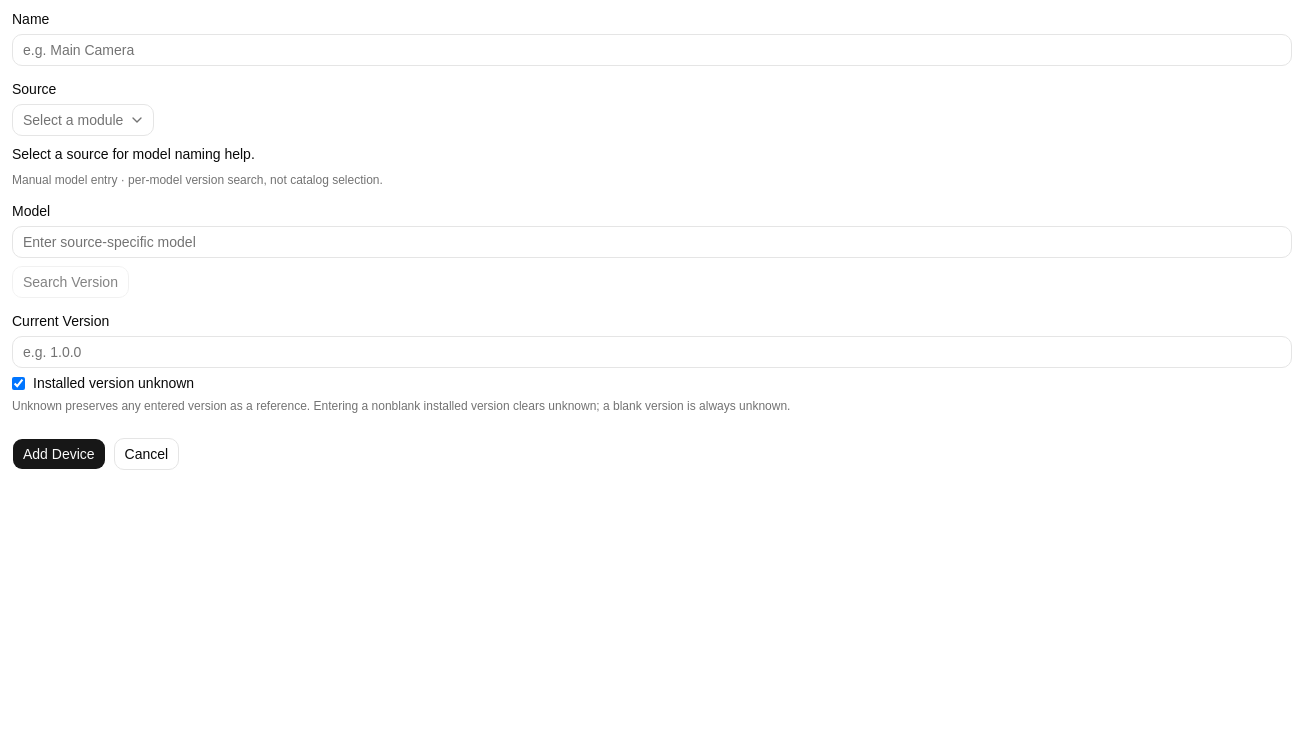
Test: DeviceForm › requires a source and preserves free-text values on add
Step 1. Type "new" into the field labelled "Name" → (652, 50), box [12, 34, 1292, 66]
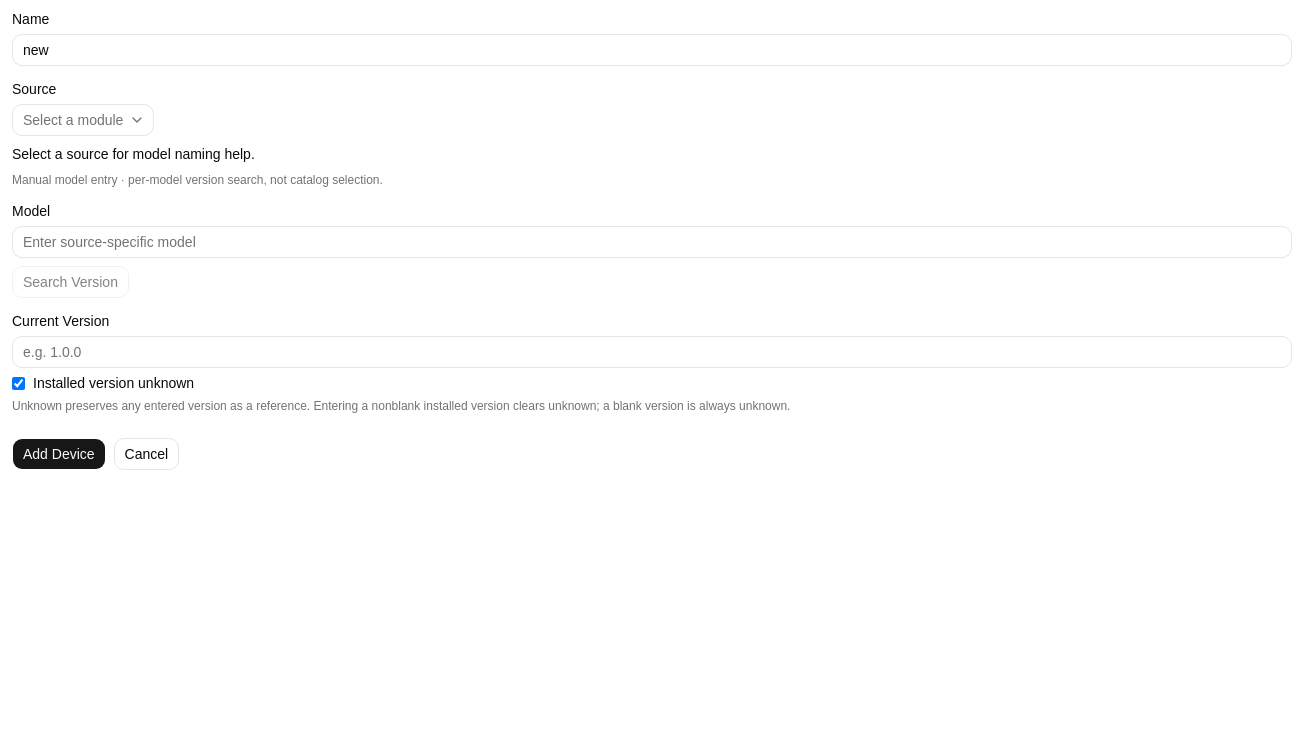
Step 2. Submit the form
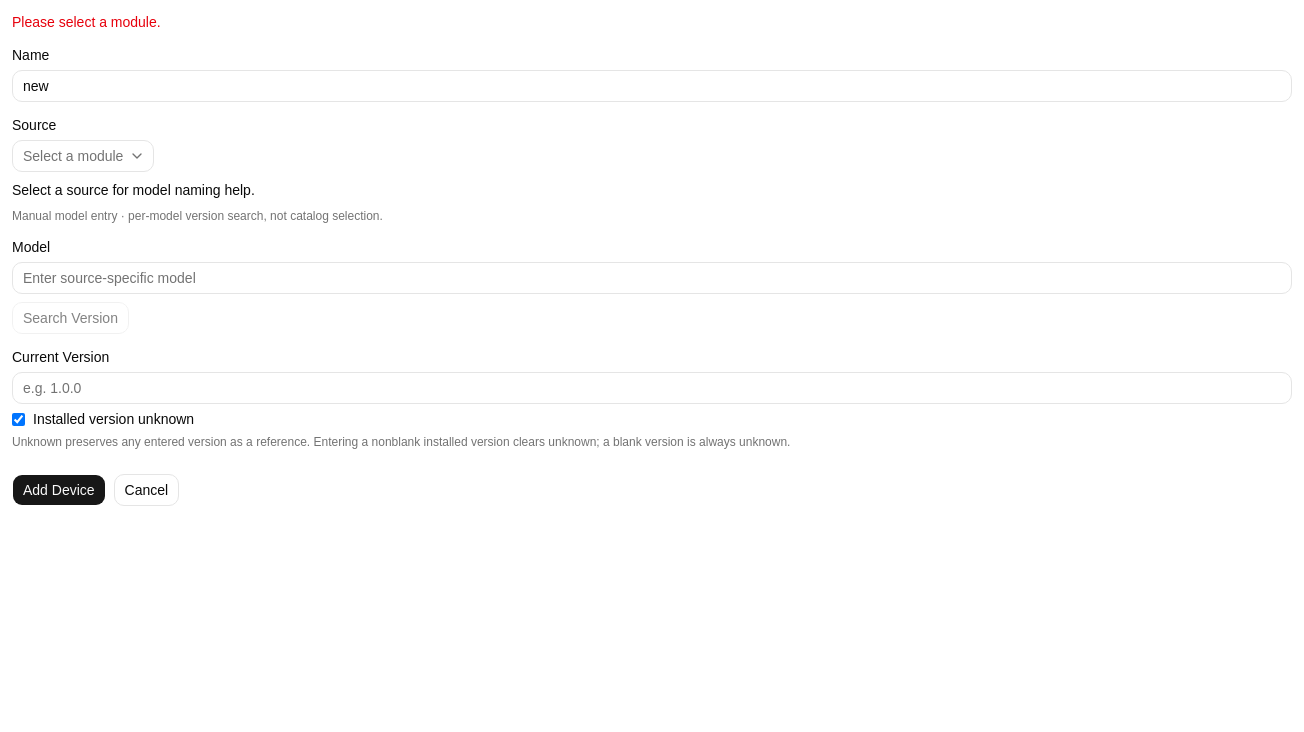
Expected: the message shows "Please select a module", [12, 14, 161, 30]
